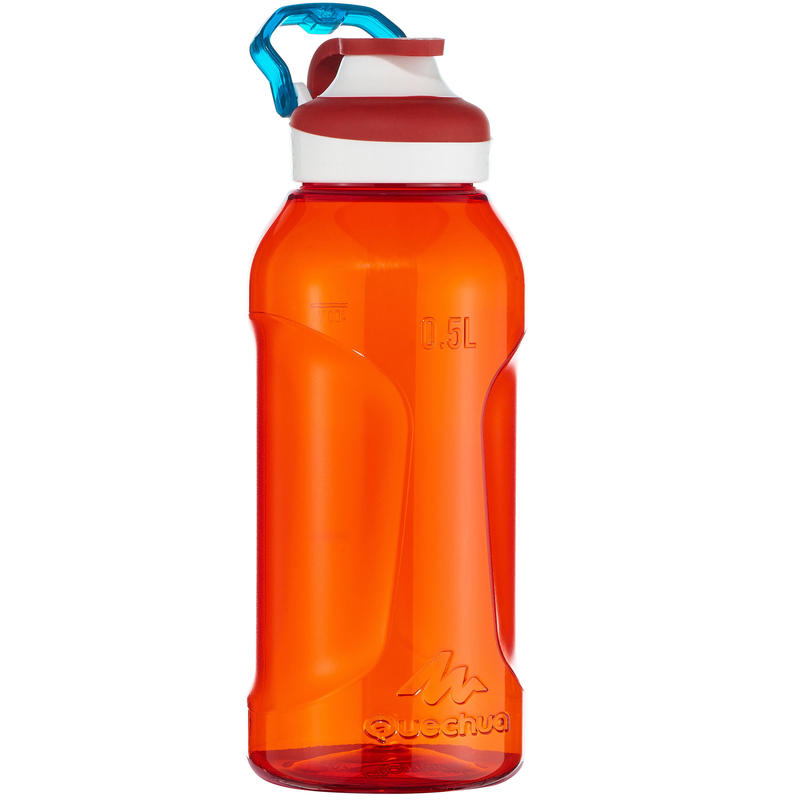bottle: (218, 2, 542, 796)
